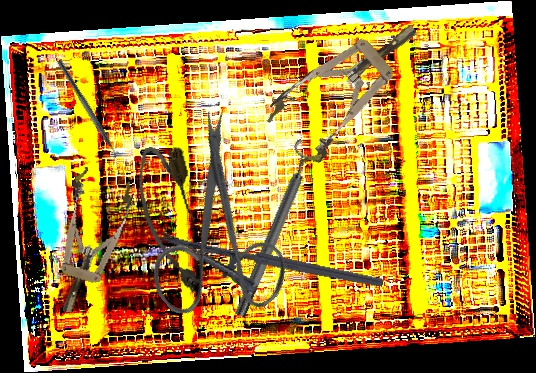Cannula: (130, 140, 213, 300)
Chopper: (50, 59, 124, 166)
Fixation Ring: (224, 137, 326, 322)
Iris Scissors: (87, 104, 336, 354)
Needle Holder: (154, 230, 384, 320)
Speculum: (258, 0, 440, 173), (36, 164, 138, 321)
